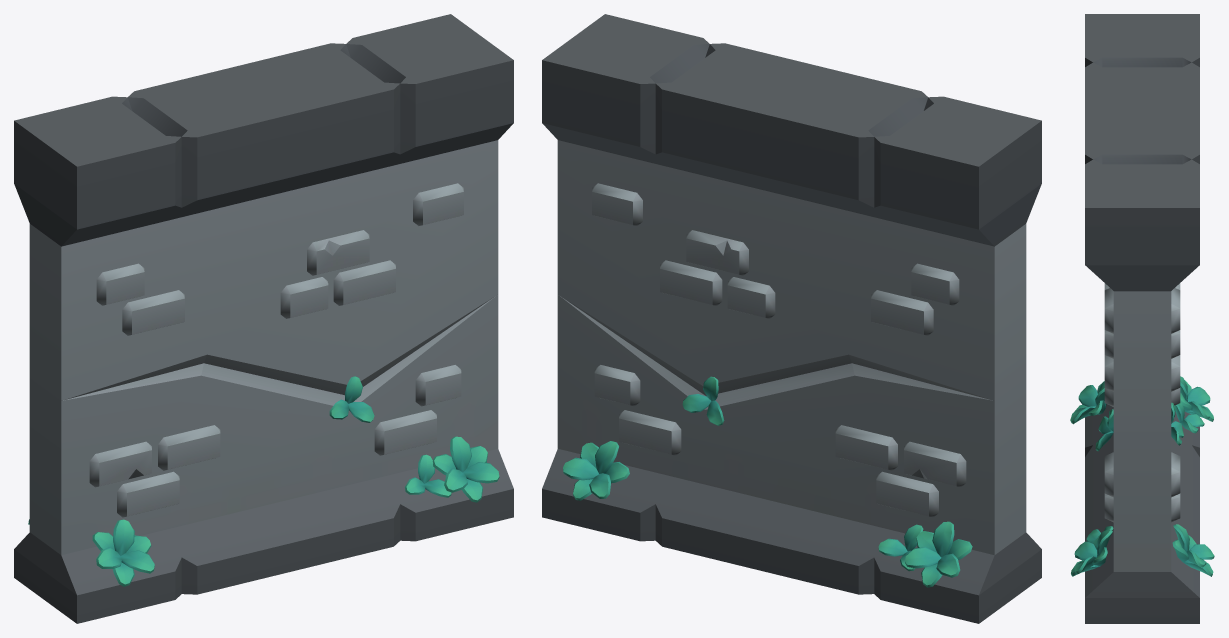
File: wall-cracked-gltf.glb
3 views of the same model, side by side, from view 1: azimuth 30°, elevation 25°; view 2: azimuth 150°, elevation 25°; view 3: azimuth 270°, elevation 25° (orthographic). The views are drawn at different scales.
Parts seen in each view (by area): view 1: wall_cracked; view 2: wall_cracked; view 3: wall_cracked.
Part boxes in pixels (x1,y1,x2,y2): wall_cracked: (14,14,513,623); wall_cracked: (542,14,1041,623); wall_cracked: (1070,14,1214,623).
Size of the model in its own units: 4 by 4 by 1.26.
1 material, 1 textured.
